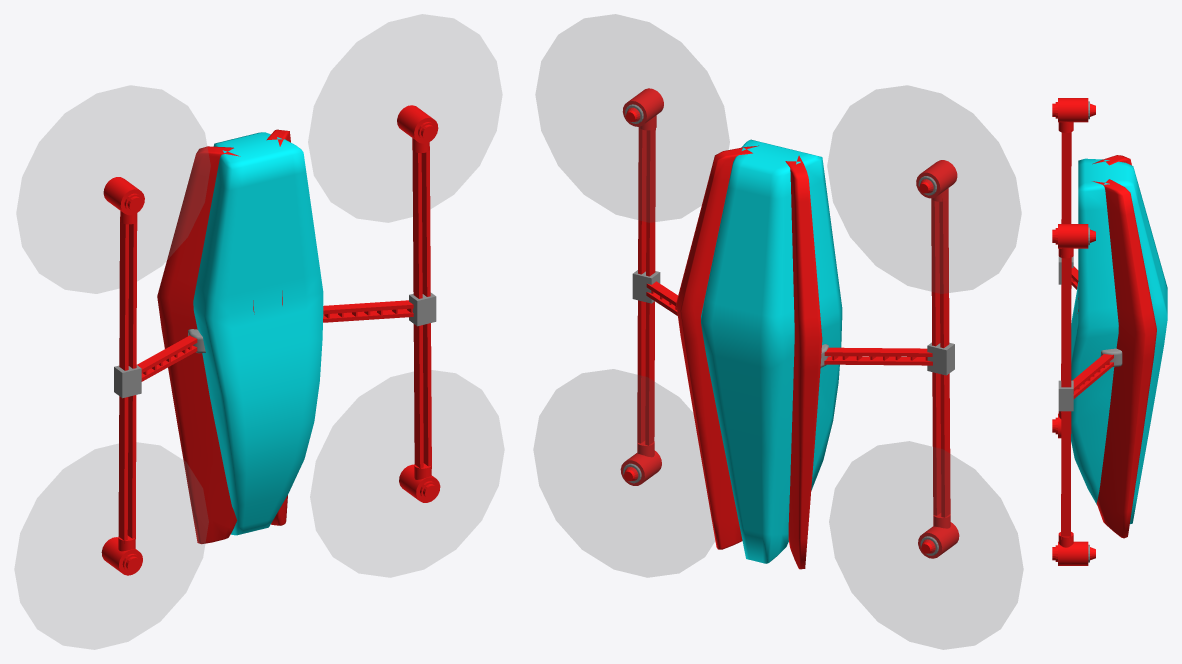
Rendered from Drone_v3.FBX.
3 views of the same model, side by side, from view 1: azimuth 30°, elevation 25°; view 2: azimuth 150°, elevation 25°; view 3: azimuth 270°, elevation 25° (orthographic). The views are drawn at different scales.
Visible parts, largest first — view 1: Drone_v3; view 2: Drone_v3; view 3: Drone_v3.
Boxes of the visible parts, x1=… form: Drone_v3: x1=14, y1=14, x2=504, y2=649; Drone_v3: x1=533, y1=14, x2=1023, y2=649; Drone_v3: x1=1052, y1=98, x2=1167, y2=565.
Bounding box in the file's own units: 133 × 144 × 30.81.
